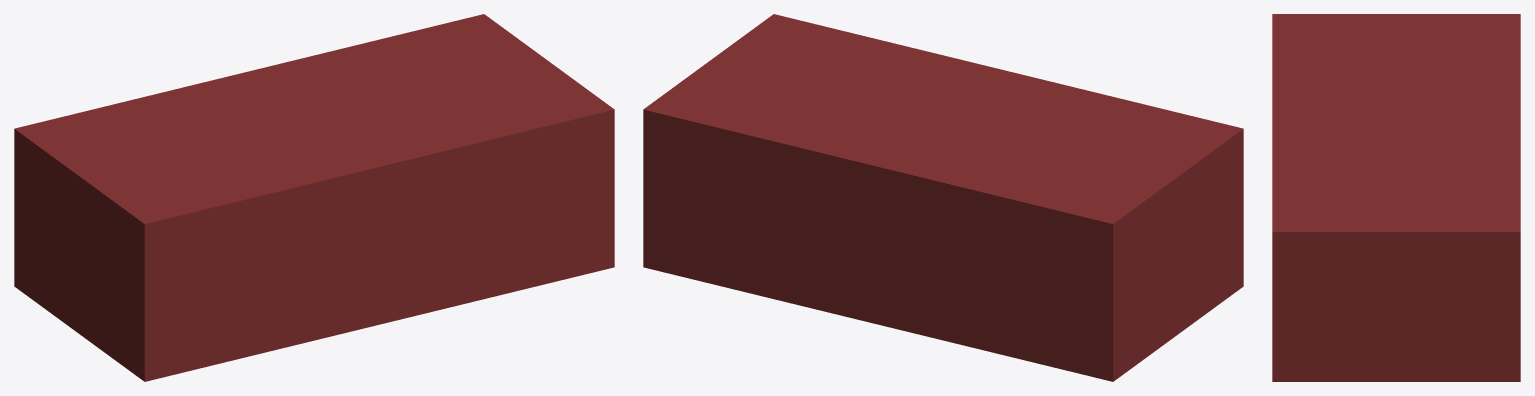
The model's file is SM_Brick02.fbx.
The picture shows the model from 3 angles, left to right: view 1: azimuth 30°, elevation 25°; view 2: azimuth 150°, elevation 25°; view 3: azimuth 270°, elevation 25°; orthographic projection. The views are drawn at different scales.
Visible parts, largest first — view 1: Brick02; view 2: Brick02; view 3: Brick02.
Part boxes in pixels (left/top/right/bottom): Brick02: left=14, top=14, right=614, bottom=381; Brick02: left=643, top=14, right=1243, bottom=381; Brick02: left=1272, top=14, right=1520, bottom=381.
Bounding box in the file's own units: 25.03 × 8.03 × 12.04.
